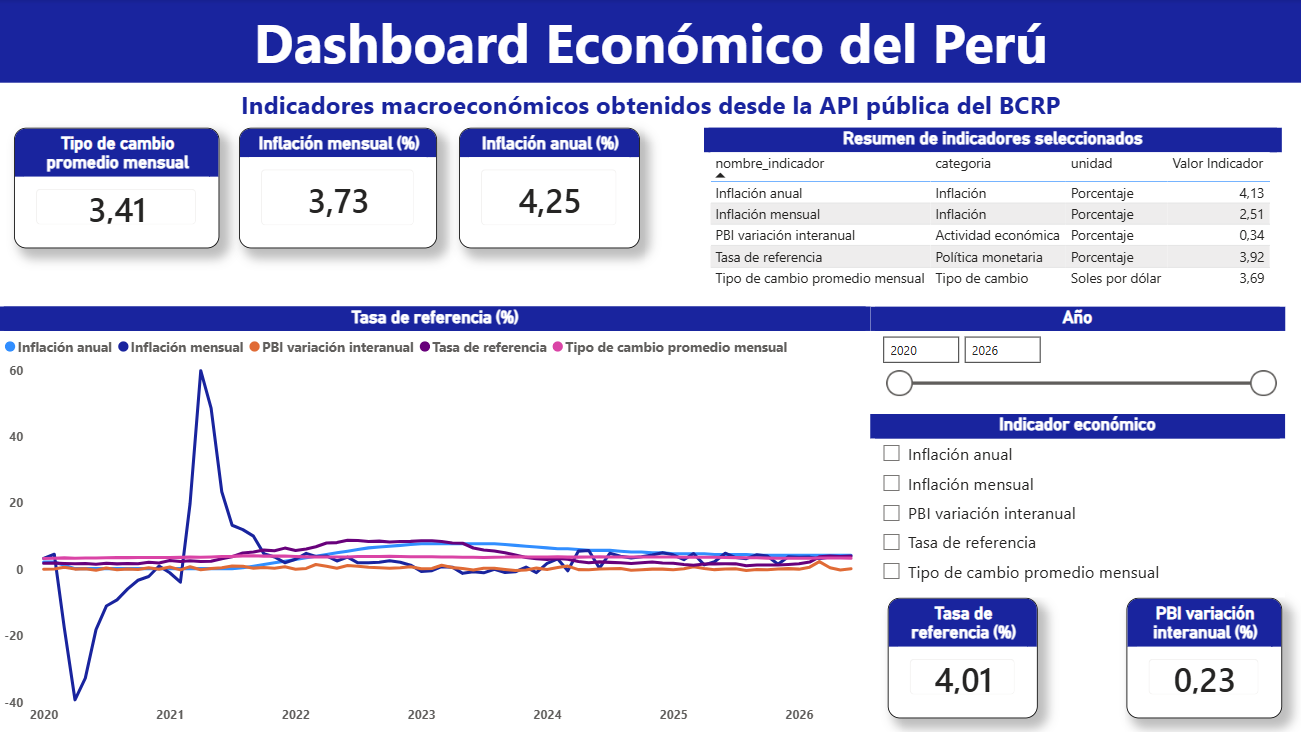

The dashboard page shown, as its layout file describes it:
{"tool":"powerbi","page":{"name":"Resumen económico","canvas":[1280,720],"ordinal":0},"visuals":[{"type":"textbox","box":[0,0,1279.8,82.2],"z":0},{"type":"textbox","box":[0,82.2,1279.8,45.4],"z":1000},{"type":"cardVisual","title":"Tipo de cambio promedio mensual","fields":{"Data":["fact_indicadores.Último Tipo de Cambio"]},"box":[14.4,127,202,118.3],"z":2000},{"type":"cardVisual","title":"Inflación mensual (%)","fields":{"Data":["fact_indicadores.Última Inflación Mensual"]},"box":[235.2,127,194.8,118.3],"z":3000},{"type":"cardVisual","title":"Inflación anual (%)","fields":{"Data":["fact_indicadores.Última Inflación Anual"]},"box":[451.6,127,177.5,118.3],"z":4000},{"type":"cardVisual","title":"PBI variación interanual (%)","fields":{"Data":["fact_indicadores.Último PBI"]},"box":[1106.6,587.2,152.9,118.3],"z":5000},{"type":"cardVisual","title":"Tasa de referencia (%)","fields":{"Data":["fact_indicadores.Última Tasa de Referencia"]},"box":[872.9,587.2,147.2,118.3],"z":6000},{"type":"lineChart","title":"Tasa de referencia (%)","fields":{"Y":["fact_indicadores.Valor Indicador"],"Series":["dim_indicador.nombre_indicador"],"Category":["dim_fecha.fecha.Variación.Jerarquía de fechas.Año","dim_fecha.fecha.Variación.Jerarquía de fechas.Trimestre","dim_fecha.fecha.Variación.Jerarquía de fechas.Mes","dim_fecha.fecha.Variación.Jerarquía de fechas.Día"]},"box":[0,301.5,855.6,418.4],"z":7000},{"type":"slicer","title":"Año","fields":{"Values":["dim_fecha.anio"]},"box":[855.6,301.5,406.9,105.3],"z":8000},{"type":"slicer","title":"Indicador económico","fields":{"Values":["dim_indicador.nombre_indicador"]},"box":[855.6,406.9,406.9,180.3],"z":9000},{"type":"tableEx","title":"Resumen de indicadores seleccionados","fields":{"Values":["dim_indicador.nombre_indicador","dim_indicador.categoria","dim_indicador.unidad","fact_indicadores.Valor Indicador"]},"box":[692.5,127,567,174.6],"z":10000}]}

Visuals, with their boxes in screenshot pixels (x1, y1, x2, y2), scaled from the page's 1280x720 canvas onto the 1301x732 screenshot:
textbox: left=0, top=0, right=1300, bottom=84
textbox: left=0, top=84, right=1300, bottom=130
"Tipo de cambio promedio mensual" cardVisual: left=15, top=129, right=220, bottom=249
"Inflación mensual (%)" cardVisual: left=239, top=129, right=437, bottom=249
"Inflación anual (%)" cardVisual: left=459, top=129, right=639, bottom=249
"PBI variación interanual (%)" cardVisual: left=1125, top=597, right=1280, bottom=717
"Tasa de referencia (%)" cardVisual: left=887, top=597, right=1037, bottom=717
"Tasa de referencia (%)" lineChart: left=0, top=307, right=870, bottom=731
"Año" slicer: left=870, top=307, right=1283, bottom=414
"Indicador económico" slicer: left=870, top=414, right=1283, bottom=597
"Resumen de indicadores seleccionados" tableEx: left=704, top=129, right=1280, bottom=307
